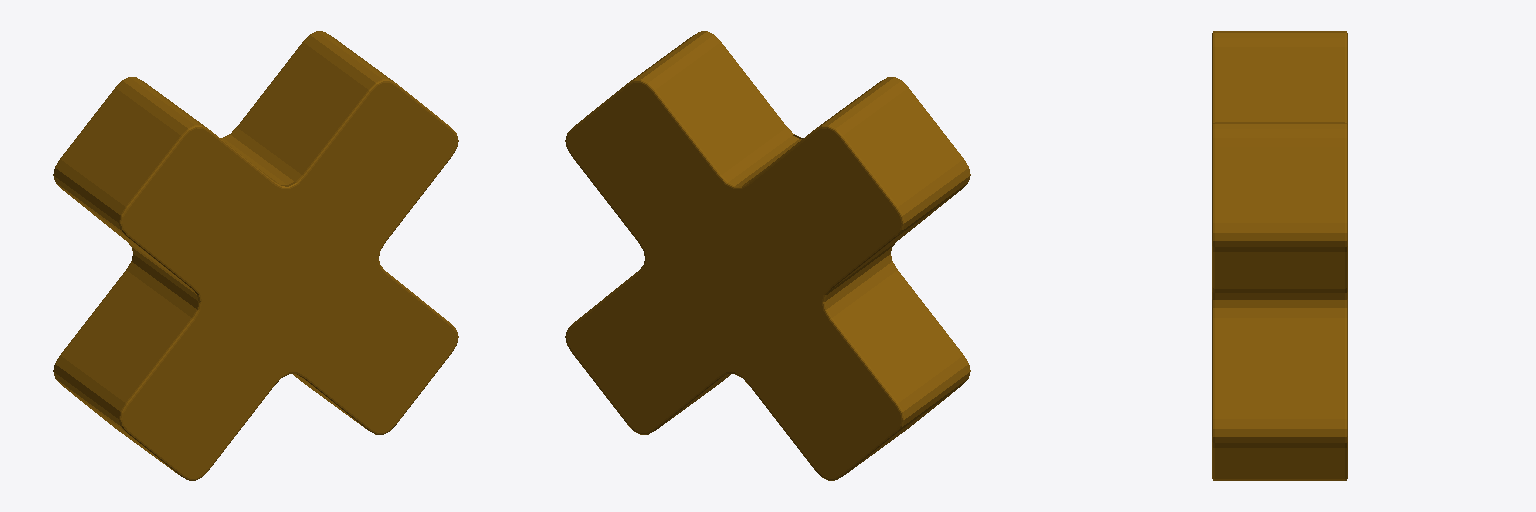
3 renders of one model, left to right at view 1: azimuth 30°, elevation 25°; view 2: azimuth 150°, elevation 25°; view 3: azimuth 270°, elevation 25°, orthographic.
Parts seen in each view (by area): view 1: Gallotti_Radice_Tip_Tap_Toe.001; view 2: Gallotti_Radice_Tip_Tap_Toe.001; view 3: Gallotti_Radice_Tip_Tap_Toe.001.
Part boxes in pixels (bbox=[...]): Gallotti_Radice_Tip_Tap_Toe.001: bbox=[53, 31, 458, 480]; Gallotti_Radice_Tip_Tap_Toe.001: bbox=[565, 31, 970, 480]; Gallotti_Radice_Tip_Tap_Toe.001: bbox=[1212, 31, 1347, 480].
Size of the model in its own units: 4.34 by 4.34 by 1.5.